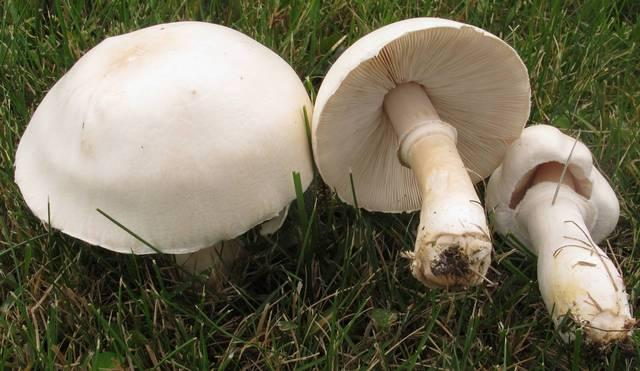poisonous_mushroom: (12, 19, 314, 286), (310, 15, 532, 290), (484, 123, 635, 352)
